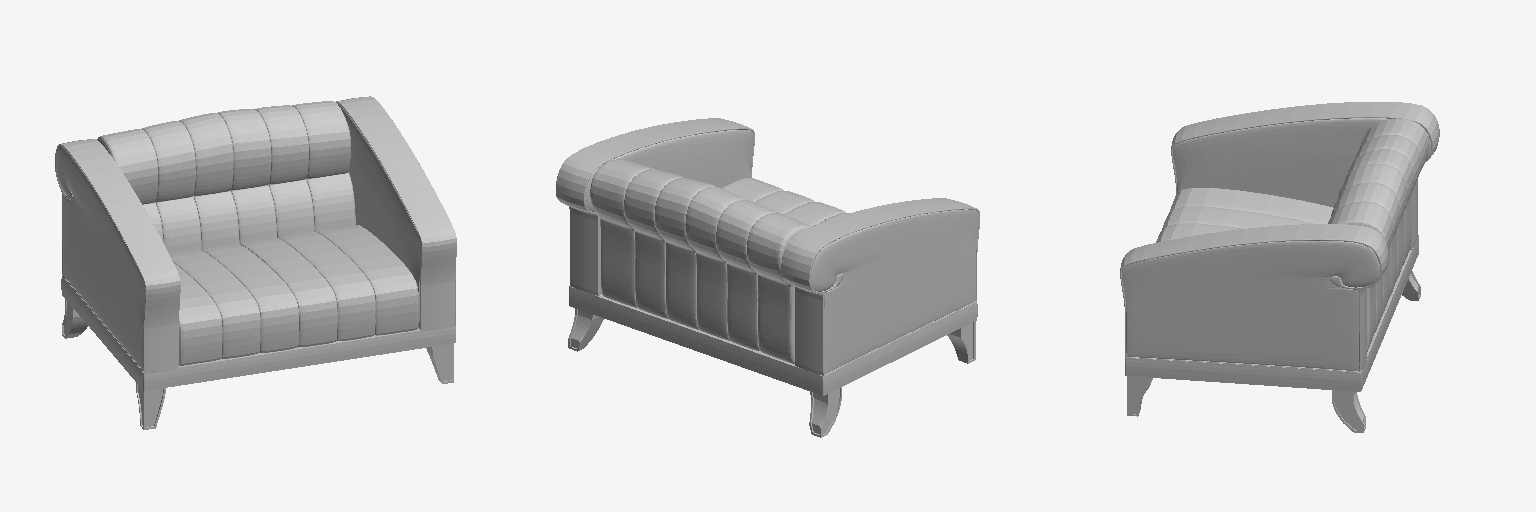
Rendered from georgetti_51521.obj.
The picture shows the model from 3 angles: view 1: azimuth 30°, elevation 25°; view 2: azimuth 150°, elevation 25°; view 3: azimuth 270°, elevation 25°; orthographic projection.
Parts seen in each view (by area): view 1: georgetti_51521_03, georgetti_51521_04, georgetti_51521_00, georgetti_51521_01, georgetti_51521_02; view 2: georgetti_51521_03, georgetti_51521_04, georgetti_51521_01, georgetti_51521_02, georgetti_51521_00; view 3: georgetti_51521_03, georgetti_51521_04, georgetti_51521_01, georgetti_51521_00, georgetti_51521_02.
Boxes of the visible parts, <box> form: georgetti_51521_03: <box>55,96,456,373</box>; georgetti_51521_04: <box>97,101,355,253</box>; georgetti_51521_00: <box>169,225,418,365</box>; georgetti_51521_01: <box>61,275,455,390</box>; georgetti_51521_02: <box>62,299,453,429</box>; georgetti_51521_03: <box>556,118,979,375</box>; georgetti_51521_04: <box>590,159,811,363</box>; georgetti_51521_01: <box>569,286,977,395</box>; georgetti_51521_02: <box>568,308,975,437</box>; georgetti_51521_00: <box>722,178,849,226</box>; georgetti_51521_03: <box>1120,102,1439,371</box>; georgetti_51521_04: <box>1328,118,1428,351</box>; georgetti_51521_01: <box>1125,235,1418,391</box>; georgetti_51521_00: <box>1156,188,1333,242</box>; georgetti_51521_02: <box>1127,271,1420,432</box>.
Bounding box in the file's own units: 138 × 82.03 × 119.